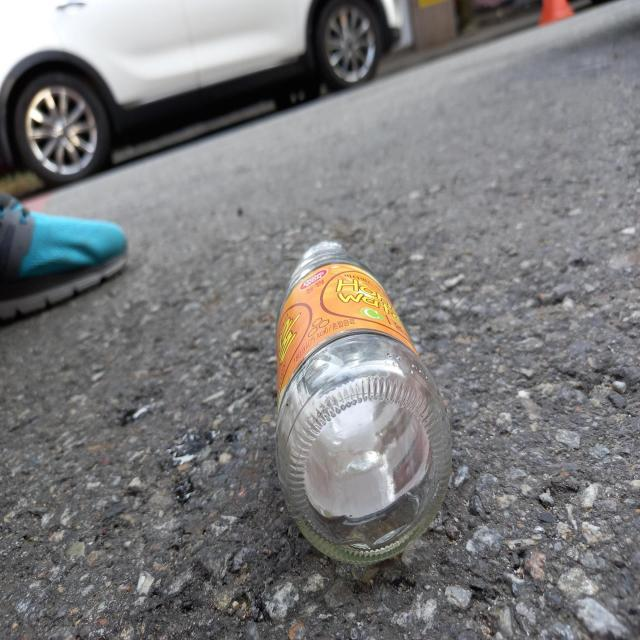glass: (276, 241, 452, 564)
